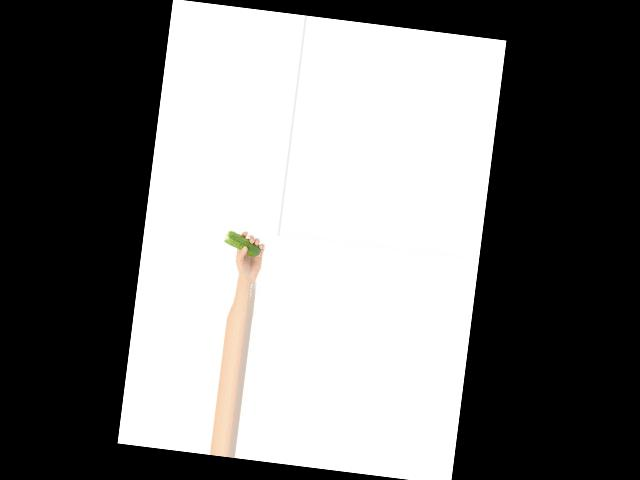cucumber: (223, 231, 263, 257)
